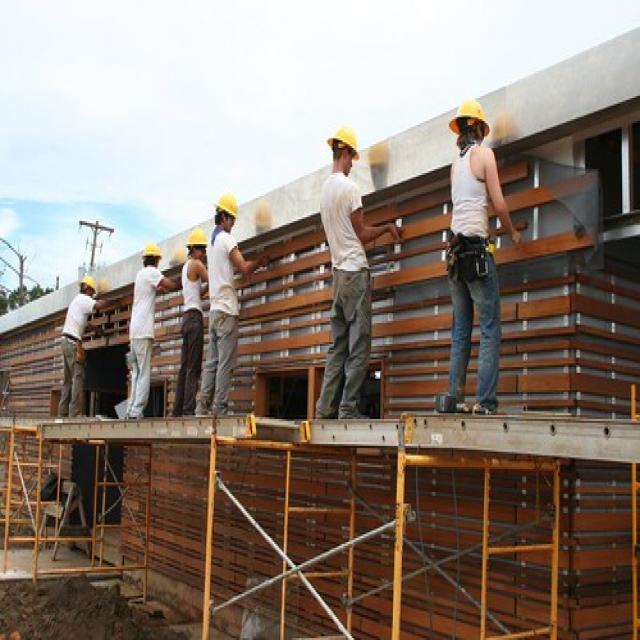Safety-Helmet: (446, 94, 492, 135), (325, 118, 364, 162), (214, 188, 242, 223), (138, 234, 165, 266), (186, 225, 208, 252), (78, 271, 100, 296)
